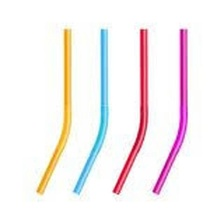drinking_straw: (30, 25, 79, 200), (148, 27, 196, 196), (109, 26, 154, 198), (70, 27, 114, 199)
